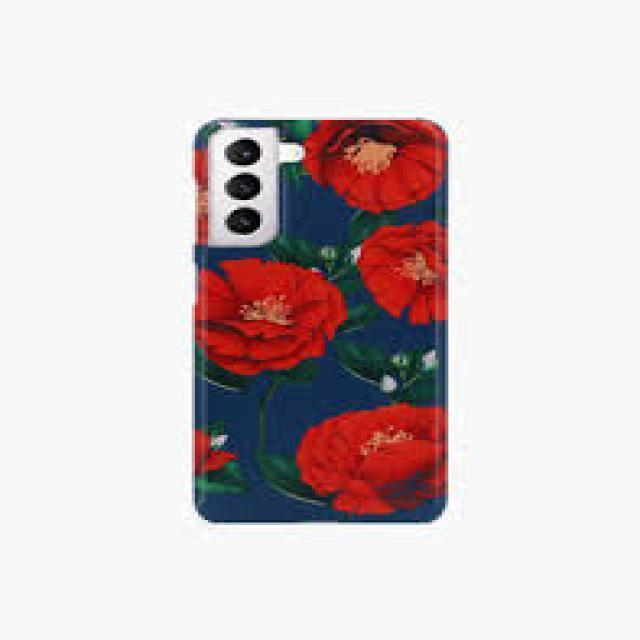phone: (186, 106, 457, 532)
